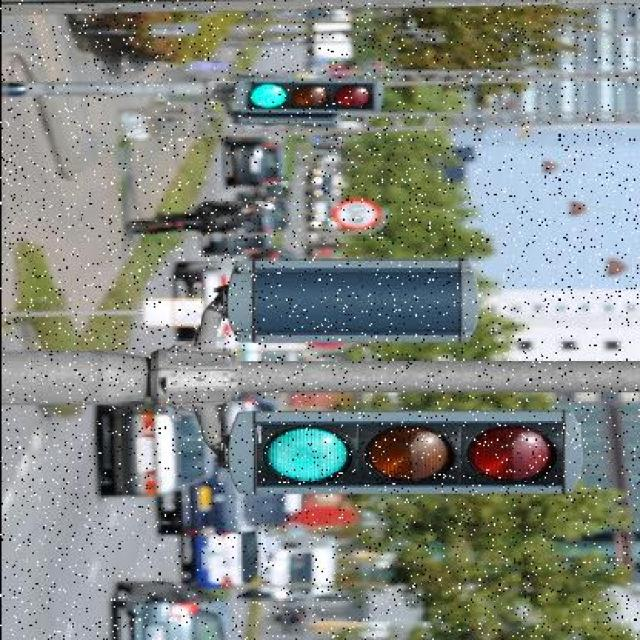green-light: (228, 378, 602, 511), (234, 67, 447, 130)
